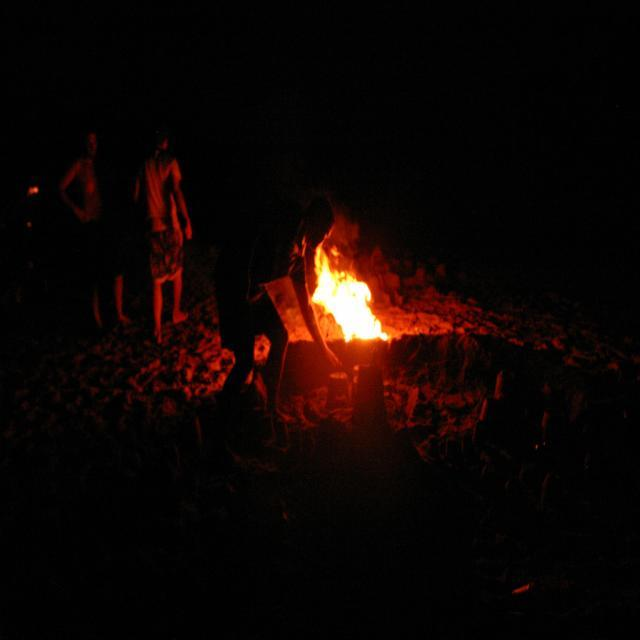Fire: (336, 282, 392, 344)
